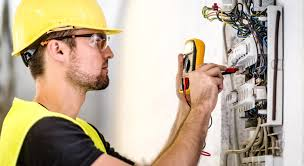Person_wearing_helmet: (6, 0, 125, 61)
